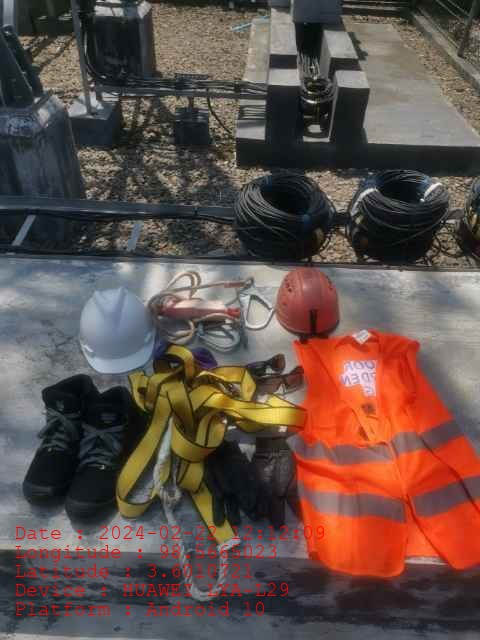HELM: (80, 289, 155, 374)
ROMPI: (294, 333, 480, 574)
